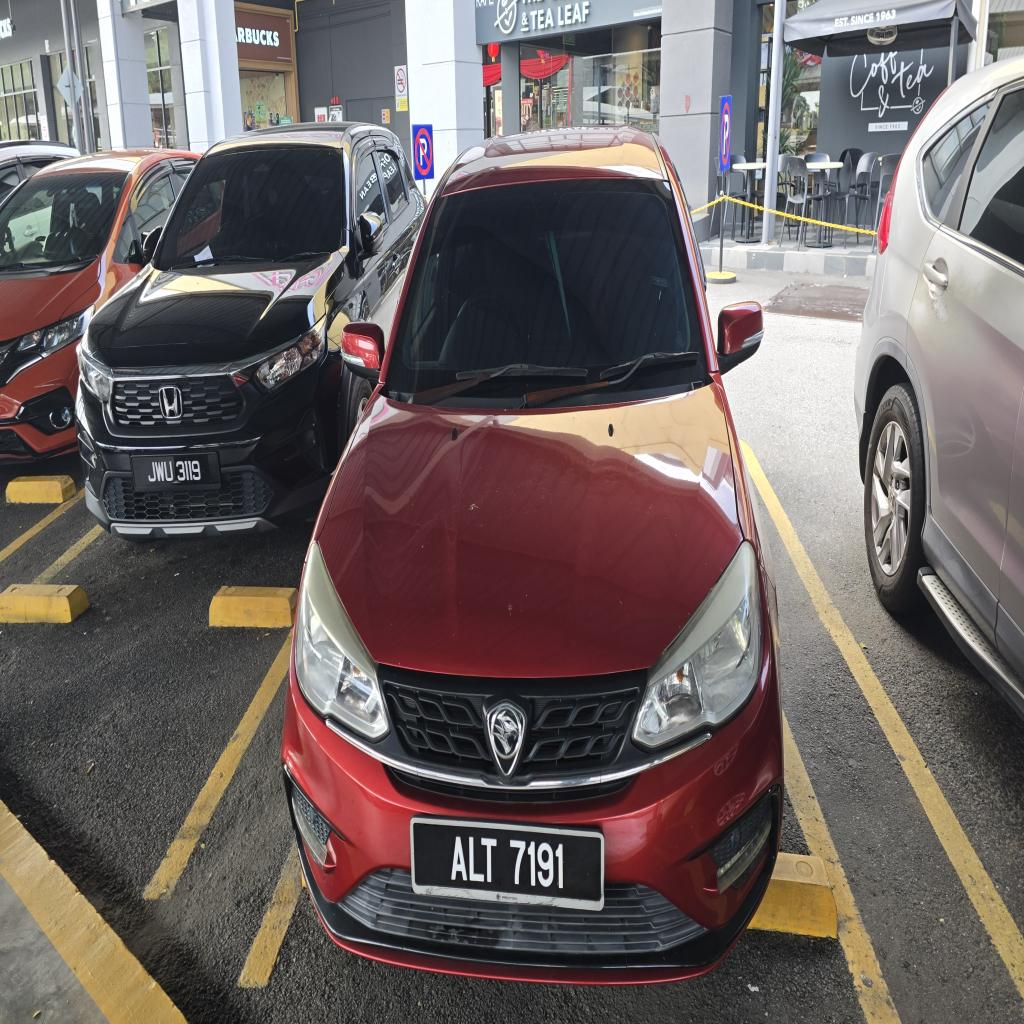car: (282, 128, 783, 983), (78, 124, 425, 538)
car plate: (411, 818, 604, 910), (132, 453, 219, 490)
